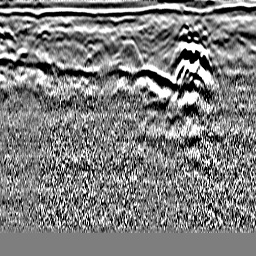cavity: (116, 37, 144, 68)
